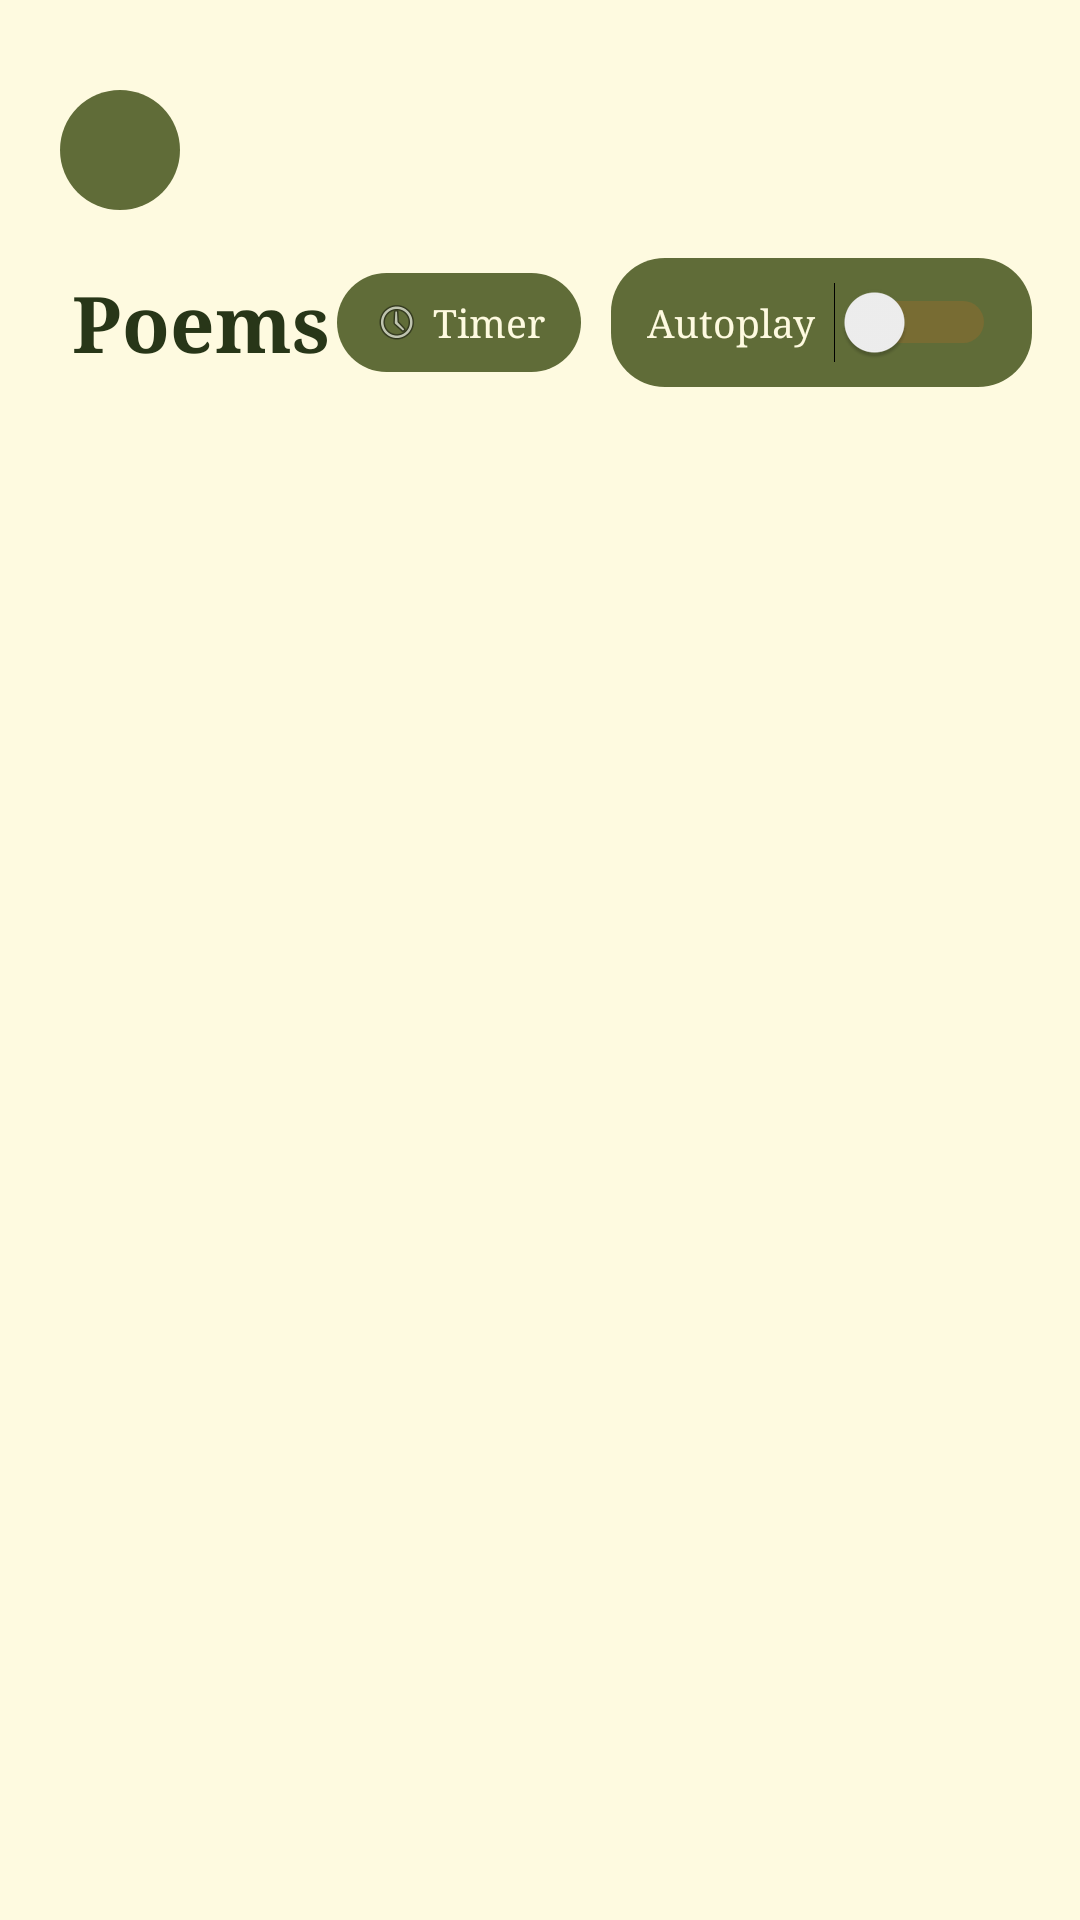

Screen size 1080*1920. Icon name, then its box in pixels as (x1, y1, x2, y2):
recent history: (380, 305, 414, 339)
